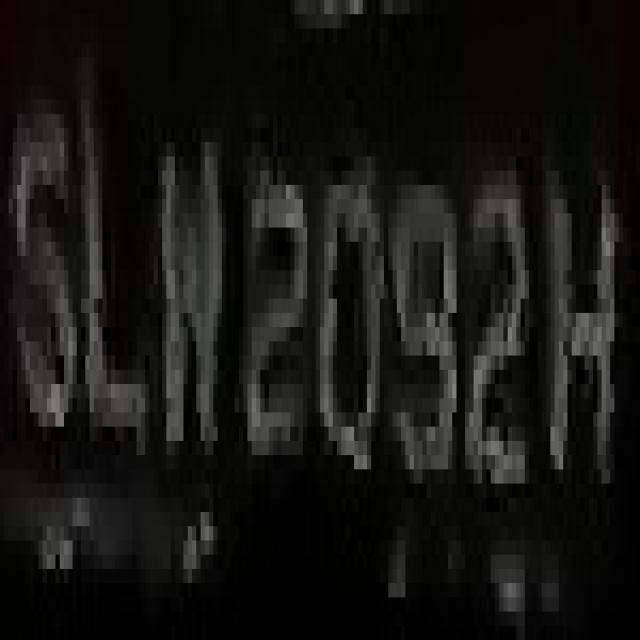0: (311, 114, 380, 498)
2: (230, 114, 308, 498), (469, 128, 538, 526)
9: (388, 142, 461, 512)
H: (542, 142, 623, 540)
L: (77, 128, 158, 484)
S: (13, 43, 72, 469)
W: (158, 114, 222, 498)
